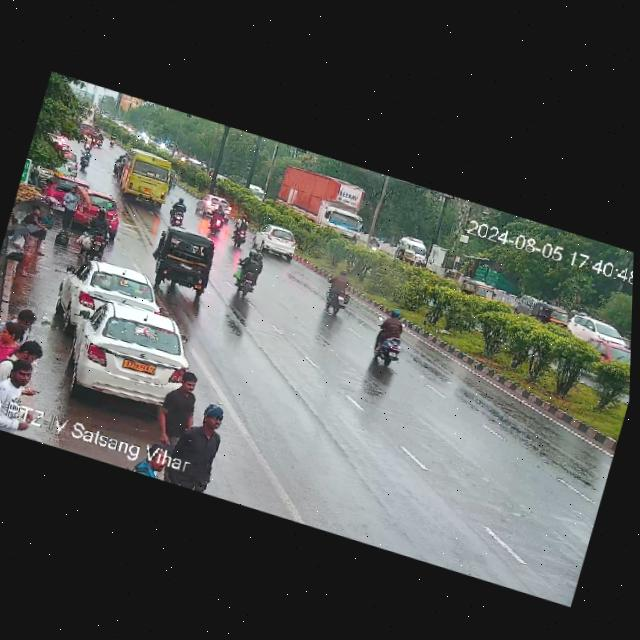bus: (111, 147, 185, 213)
car: (37, 284, 210, 424), (51, 251, 164, 347), (148, 225, 224, 298), (73, 188, 125, 240), (247, 221, 302, 264), (570, 314, 629, 354), (533, 299, 577, 333), (196, 191, 237, 224), (44, 168, 76, 208), (456, 275, 495, 301), (513, 291, 536, 318), (393, 243, 418, 263)
motorcycle: (362, 304, 417, 373), (228, 248, 271, 299), (320, 267, 361, 319), (79, 205, 115, 262), (164, 196, 193, 229), (227, 214, 252, 249), (204, 204, 231, 236), (88, 127, 106, 148), (77, 147, 92, 172), (79, 131, 96, 152), (111, 154, 125, 179), (108, 132, 117, 146)
person: (165, 400, 238, 493), (149, 367, 207, 455), (0, 356, 44, 428), (0, 299, 47, 356), (15, 203, 56, 262), (50, 183, 88, 241)
truck: (259, 158, 379, 246)
